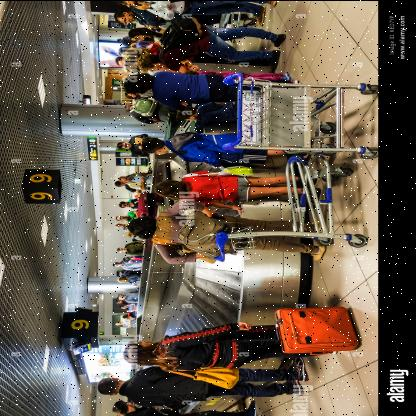airport-trolley: (211, 158, 356, 264), (222, 74, 378, 156)
